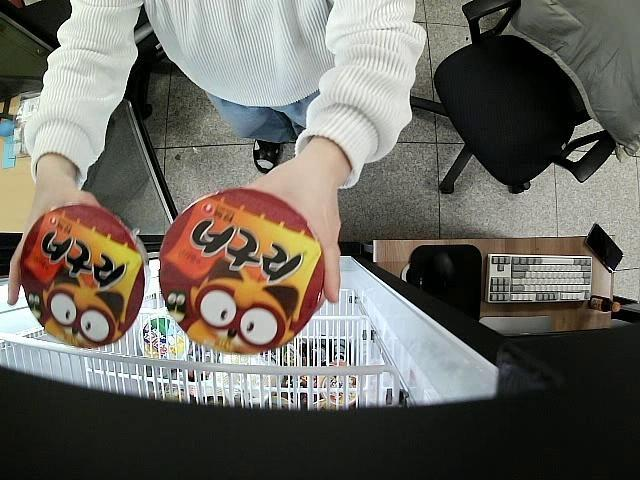05_nuguri_L: (160, 188, 326, 356), (19, 204, 150, 349)
